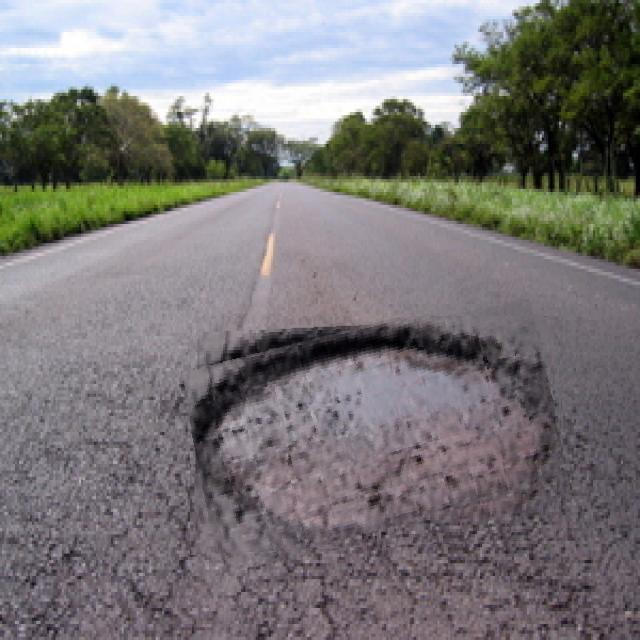Pothole: (190, 316, 564, 555)
